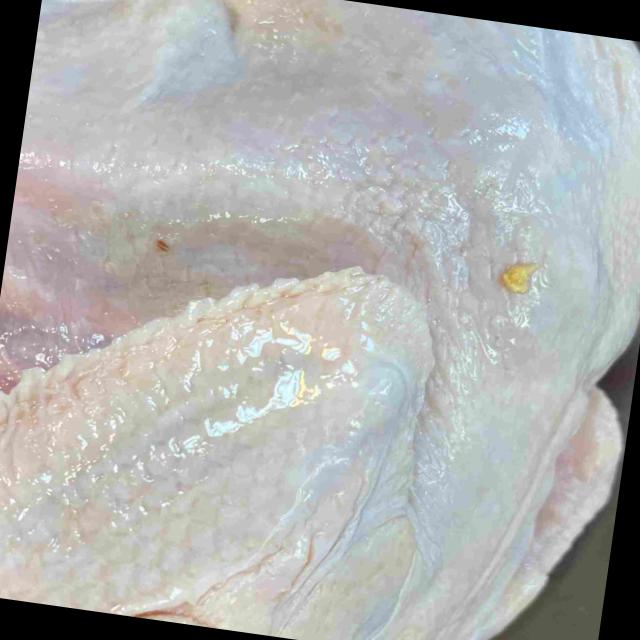back: (238, 0, 640, 640)
leg: (10, 0, 242, 234)
wing: (0, 269, 428, 635)
